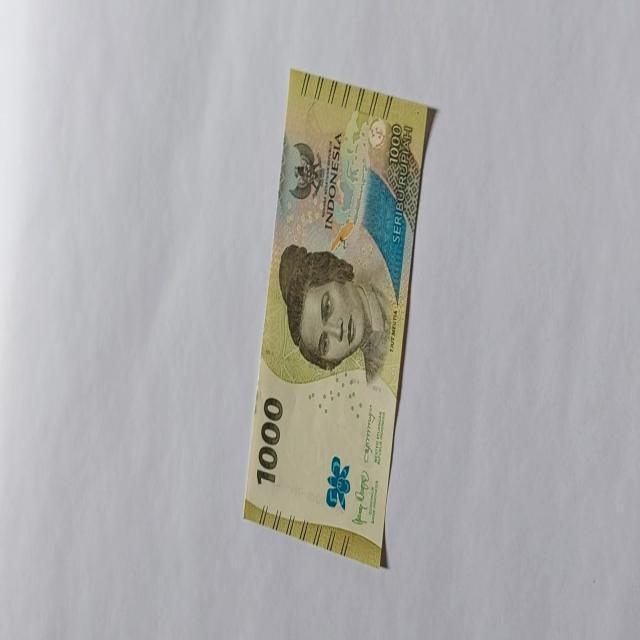seribu rupiah kertas: (242, 68, 438, 568)
